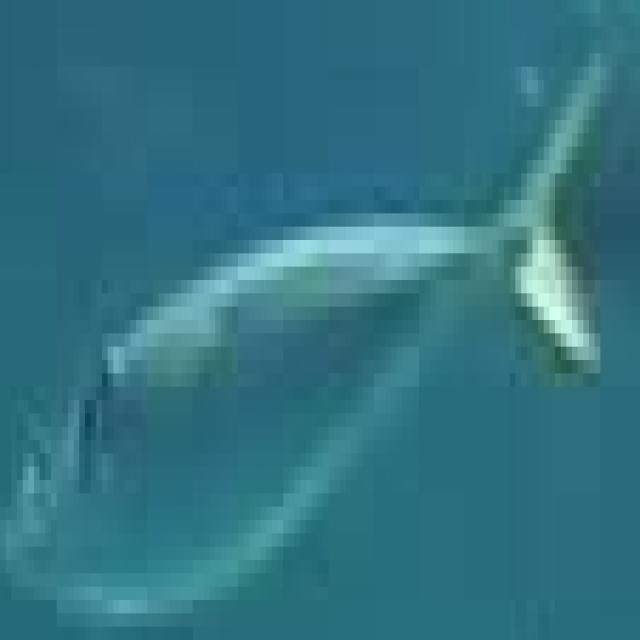fish: (5, 13, 640, 639)
